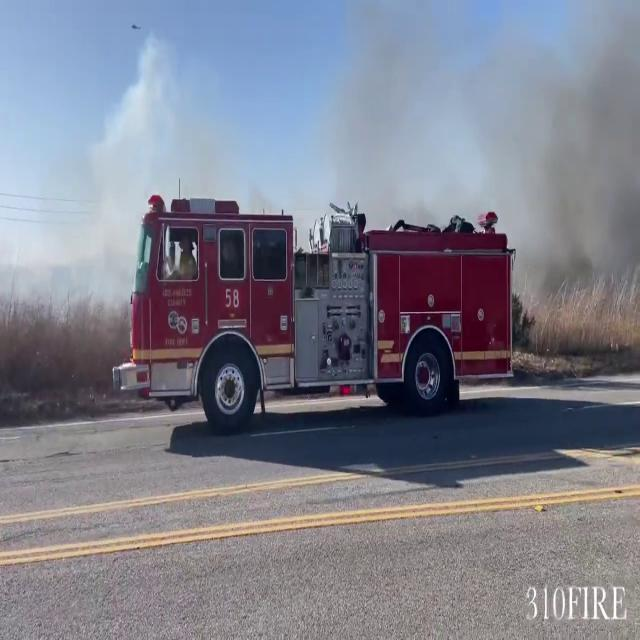Smoke: (510, 1, 640, 350)
